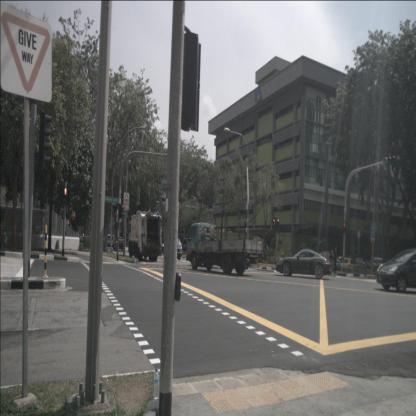human-pedestrian-adult: (329, 249, 335, 277), (334, 246, 338, 276), (264, 245, 267, 264)
vehicle-car: (376, 247, 415, 294), (276, 248, 332, 279), (164, 238, 182, 261), (318, 255, 342, 271), (368, 257, 389, 273), (337, 258, 357, 274), (350, 261, 368, 273), (363, 261, 379, 273), (113, 236, 125, 252), (102, 234, 114, 248)
vehicle-truck: (186, 222, 263, 275), (128, 210, 163, 262)
